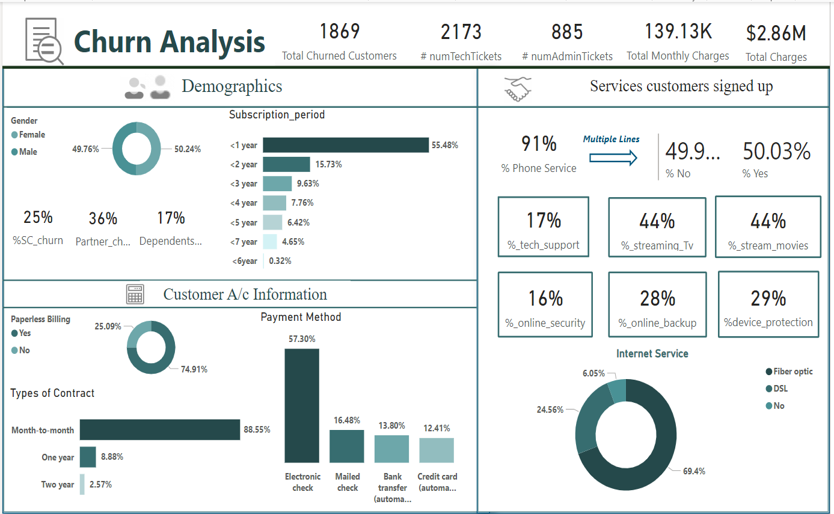

The page's visual inventory and layout, read from the dashboard file:
{"tool":"powerbi","page":{"name":" Churn Analysis","canvas":[1280,720],"ordinal":2},"visuals":[{"type":"card","fields":{"Values":["Churned Customer Data.churn_count"]},"box":[420,0,203.3,98.8],"z":0,"group":"g1"},{"type":"shape","box":[0,90.7,754.7,629.1],"z":0},{"type":"card","fields":{"Values":["Measure2.%_tech_support"]},"box":[766.3,273.5,141.6,85.3],"z":0,"group":"g2"},{"type":"card","fields":{"Values":["Measure2.%_online_security"]},"box":[766.3,379.2,147.2,92.9],"z":0,"group":"g3"},{"type":"card","fields":{"Values":["Sum(Churned Customer Data.numTechTickets)"]},"box":[635,1.2,150,98.8],"z":1000,"group":"g1"},{"type":"shape","box":[733.7,90.7,546.5,629.1],"z":1000},{"type":"card","fields":{"Values":["Measure2.%_streaming_Tv"]},"box":[937.2,273.9,151.7,84.8],"z":1000,"group":"g2"},{"type":"card","fields":{"Values":["Measure2.%_online_backup"]},"box":[936.9,379.2,153,92.9],"z":1000,"group":"g3"},{"type":"card","fields":{"Values":["Sum(Churned Customer Data.numAdminTickets)"]},"box":[792.5,1.2,165,98.8],"z":2000,"group":"g1"},{"type":"card","fields":{"Values":["Measure2.%_stream_movies"]},"box":[1102.3,272.1,165.1,88.4],"z":2000,"group":"g2"},{"type":"card","fields":{"Values":["Measure2.%device_protection"]},"box":[1107.4,377.9,156.5,94.2],"z":2000,"group":"g3"},{"type":"donutChart","title":"Internet Service","fields":{"Y":["CountNonNull(Churned Customer Data.InternetService)"],"Category":["Churned Customer Data.InternetService"]},"box":[744.2,484.9,523.3,230.2],"z":2000},{"type":"group","id":"g1","title":"Group 1","box":[420,0,860,101.2],"z":3000},{"type":"card","fields":{"Values":["Sum(Churned Customer Data.MonthlyCharges)"]},"box":[957.5,0,176.2,98.8],"z":3000,"group":"g1"},{"type":"card","fields":{"Values":["Sum(Churned Customer Data.TotalCharges)"]},"box":[1115.8,2.1,164.2,99.2],"z":4000,"group":"g1"},{"type":"textbox","box":[95,20,326.2,70],"z":4000},{"type":"shape","box":[0,67.4,1280.2,48.8],"z":5000},{"type":"actionButton","box":[29.1,22.1,66.3,67.4],"z":6000},{"type":"shape","box":[0,129,1280,37],"z":7000},{"type":"group","id":"g2","title":"Group 3","box":[766.3,272.1,501.2,88.4],"z":8000},{"type":"group","id":"g3","title":"Group 3","box":[766.3,377.9,497.7,94.2],"z":9000},{"type":"textbox","box":[203.6,98.2,303.6,45.5],"z":10000},{"type":"donutChart","fields":{"Category":["churn_data.gender"],"Y":["CountNonNull(churn_data.gender)"]},"box":[8.4,153.6,336,105.8],"z":11000},{"type":"card","fields":{"Values":["churn_data.%SC_churn"]},"box":[8.1,259.3,94.2,107],"z":12000},{"type":"clusteredBarChart","title":"Subscription_period","fields":{"Category":["churn_data.Tenure(in years)"],"Y":["CountNonNull(churn_data.Tenure(in years))"]},"box":[334.9,147.7,398.8,243],"z":13000},{"type":"actionButton","box":[180.9,104.5,44.5,36.4],"z":14000},{"type":"actionButton","box":[220.9,100.9,46.4,40],"z":15000},{"type":"card","fields":{"Values":["Churned Customer Data.Partner_churn"]},"box":[108.1,258.1,95.3,111.6],"z":16000},{"type":"card","fields":{"Values":["Churned Customer Data.Avg Dependents_churn"]},"box":[204.7,262.8,111.6,101.2],"z":17000},{"type":"shape","box":[0,372.1,733.7,38.4],"z":18000},{"type":"shape","box":[7.5,128.8,1272.5,37.5],"z":19000},{"type":"textbox","box":[212.8,392.3,325.6,39.5],"z":20000},{"type":"actionButton","box":[184.5,394.5,40.9,33.6],"z":21000},{"type":"shape","box":[0,410.5,733.7,38.4],"z":22000},{"type":"clusteredColumnChart","title":"Payment Method","fields":{"Category":["churn_data.PaymentMethod"],"Y":["Divide(CountNonNull(Churned Customer Data.PaymentMethod), ScopedEval(CountNonNull(Churned Customer Data.PaymentMethod), "]},"box":[394.2,432.6,339.5,282.6],"z":23000},{"type":"donutChart","fields":{"Category":["churn_data.PaperlessBilling"],"Y":["CountNonNull(churn_data.PaperlessBilling)"]},"box":[7.8,432.2,336.7,106.7],"z":24000},{"type":"multiRowCard","fields":{"Values":["Churned Customer Data.% churn_No-Multiple Lines","Churned Customer Data.% Yes_Multiple Lines"]},"box":[997.5,177.1,270,80.6],"z":25000,"group":"g4"},{"type":"clusteredBarChart","title":"Types of Contract","fields":{"Category":["churn_data.Contract"],"Y":["CountNonNull(churn_data.Contract)"]},"box":[7,539.5,412.8,175.6],"z":25000},{"type":"card","fields":{"Values":["Churned Customer Data.% churnPhone Service"]},"box":[744.2,147.5,133.3,115],"z":26000,"group":"g4"},{"type":"group","id":"g4","title":"Group 2","box":[744.2,147.5,523.3,115],"z":27000},{"type":"textbox","box":[876.3,173.9,110.8,31.7],"z":27000,"group":"g4"},{"type":"textbox","box":[836.6,98.8,429.1,45.3],"z":28000},{"type":"actionButton","box":[777.3,102.3,41.9,39.5],"z":29000},{"type":"shape","box":[908.1,207,74.4,24.4],"z":30000}]}

Visuals, with their boxes on the page's 1280x720 design canvas (x1, y1, x2, y2). These are canvas units, not pixel positions in the 834x514 screenshot, which may show the page scaled, cropped or inside an application window:
card - Churned Customer Data.churn_count: (left=420, top=0, right=623, bottom=99)
shape: (left=0, top=91, right=755, bottom=720)
card - Measure2.%_tech_support: (left=766, top=274, right=908, bottom=359)
card - Measure2.%_online_security: (left=766, top=379, right=914, bottom=472)
card - Sum(Churned Customer Data.numTechTickets): (left=635, top=1, right=785, bottom=100)
shape: (left=734, top=91, right=1280, bottom=720)
card - Measure2.%_streaming_Tv: (left=937, top=274, right=1089, bottom=359)
card - Measure2.%_online_backup: (left=937, top=379, right=1090, bottom=472)
card - Sum(Churned Customer Data.numAdminTickets): (left=792, top=1, right=958, bottom=100)
card - Measure2.%_stream_movies: (left=1102, top=272, right=1267, bottom=360)
card - Measure2.%device_protection: (left=1107, top=378, right=1264, bottom=472)
"Internet Service" donutChart: (left=744, top=485, right=1268, bottom=715)
"Group 1" group: (left=420, top=0, right=1280, bottom=101)
card - Sum(Churned Customer Data.MonthlyCharges): (left=958, top=0, right=1134, bottom=99)
card - Sum(Churned Customer Data.TotalCharges): (left=1116, top=2, right=1280, bottom=101)
textbox: (left=95, top=20, right=421, bottom=90)
shape: (left=0, top=67, right=1280, bottom=116)
actionButton: (left=29, top=22, right=95, bottom=90)
shape: (left=0, top=129, right=1280, bottom=166)
"Group 3" group: (left=766, top=272, right=1268, bottom=360)
"Group 3" group: (left=766, top=378, right=1264, bottom=472)
textbox: (left=204, top=98, right=507, bottom=144)
donutChart - churn_data.gender x CountNonNull(churn_data.gender): (left=8, top=154, right=344, bottom=259)
card - churn_data.%SC_churn: (left=8, top=259, right=102, bottom=366)
"Subscription_period" clusteredBarChart: (left=335, top=148, right=734, bottom=391)
actionButton: (left=181, top=104, right=225, bottom=141)
actionButton: (left=221, top=101, right=267, bottom=141)
card - Churned Customer Data.Partner_churn: (left=108, top=258, right=203, bottom=370)
card - Churned Customer Data.Avg Dependents_churn: (left=205, top=263, right=316, bottom=364)
shape: (left=0, top=372, right=734, bottom=410)
shape: (left=8, top=129, right=1280, bottom=166)
textbox: (left=213, top=392, right=538, bottom=432)
actionButton: (left=184, top=394, right=225, bottom=428)
shape: (left=0, top=410, right=734, bottom=449)
"Payment Method" clusteredColumnChart: (left=394, top=433, right=734, bottom=715)
donutChart - churn_data.PaperlessBilling x CountNonNull(churn_data.PaperlessBilling): (left=8, top=432, right=344, bottom=539)
multiRowCard - Churned Customer Data.% churn_No-Multiple Lines x Churned Customer Data.% Yes_Multiple Lines: (left=998, top=177, right=1268, bottom=258)
"Types of Contract" clusteredBarChart: (left=7, top=540, right=420, bottom=715)
card - Churned Customer Data.% churnPhone Service: (left=744, top=148, right=878, bottom=262)
"Group 2" group: (left=744, top=148, right=1268, bottom=262)
textbox: (left=876, top=174, right=987, bottom=206)
textbox: (left=837, top=99, right=1266, bottom=144)
actionButton: (left=777, top=102, right=819, bottom=142)
shape: (left=908, top=207, right=982, bottom=231)
